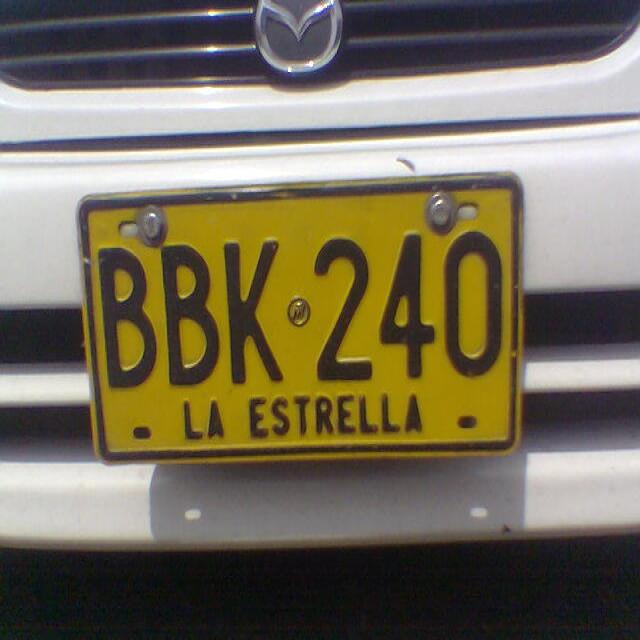placa: (70, 165, 530, 474)
